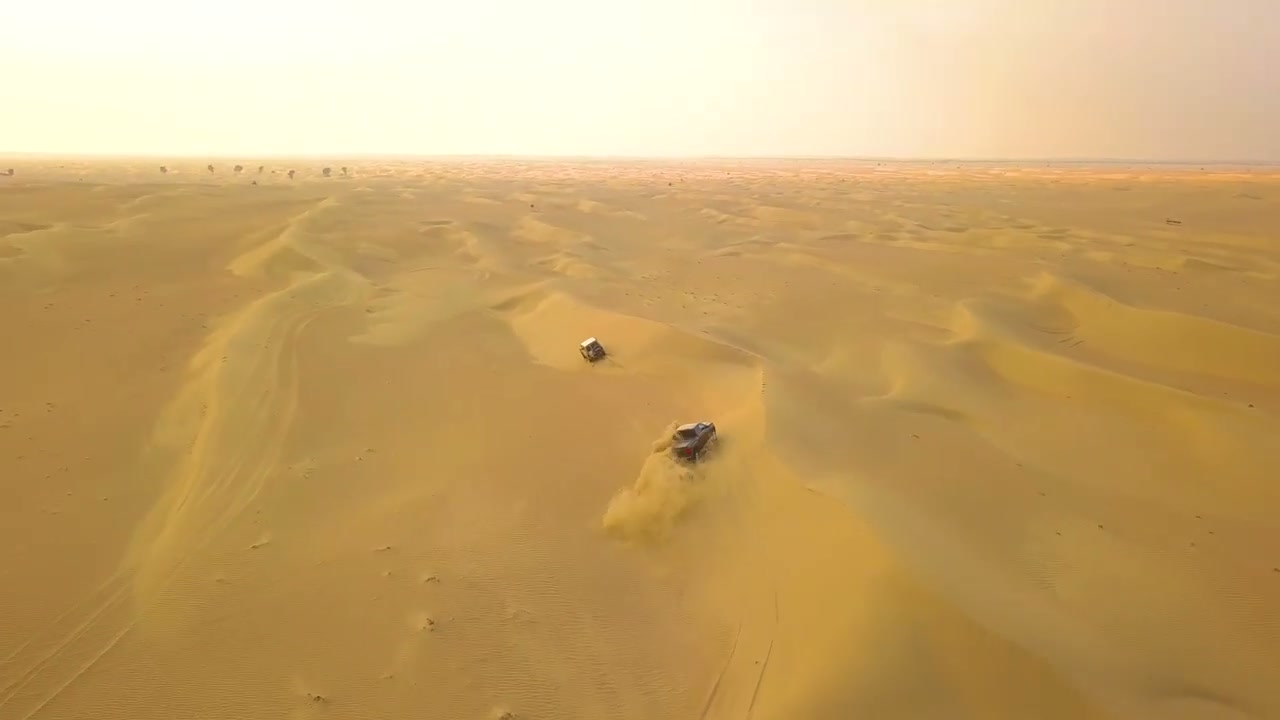vehicle_track: (2, 315, 315, 719)
